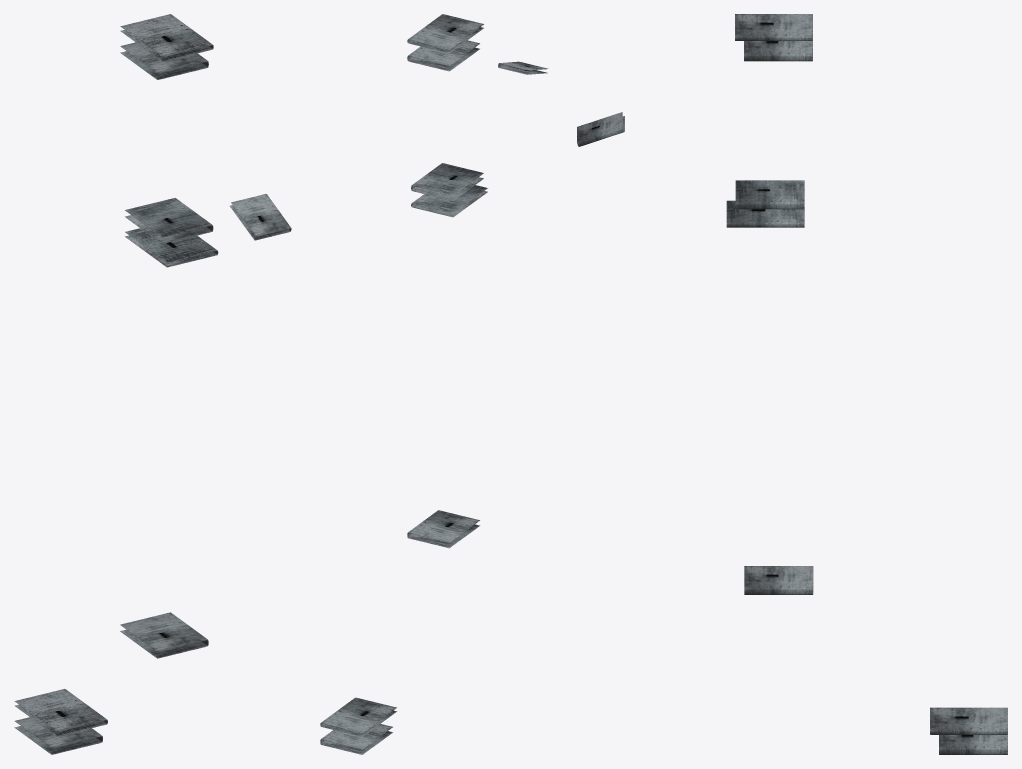
The model's file is bookshelf_7.obj.
3 renders of one model, left to right at view 1: azimuth 30°, elevation 25°; view 2: azimuth 150°, elevation 25°; view 3: azimuth 270°, elevation 25°, orthographic. The views are drawn at different scales.
Bounding box in the file's own units: 0.279 × 4.04 × 2.2.
